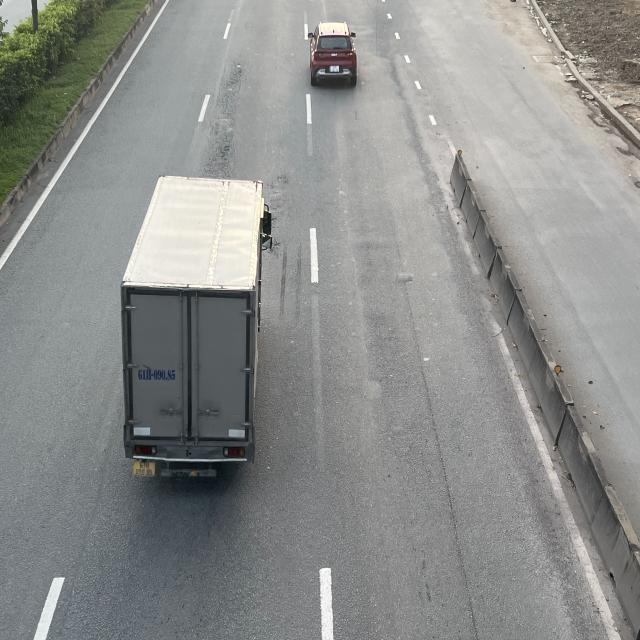car: (308, 18, 360, 85)
truck: (120, 170, 271, 477)
